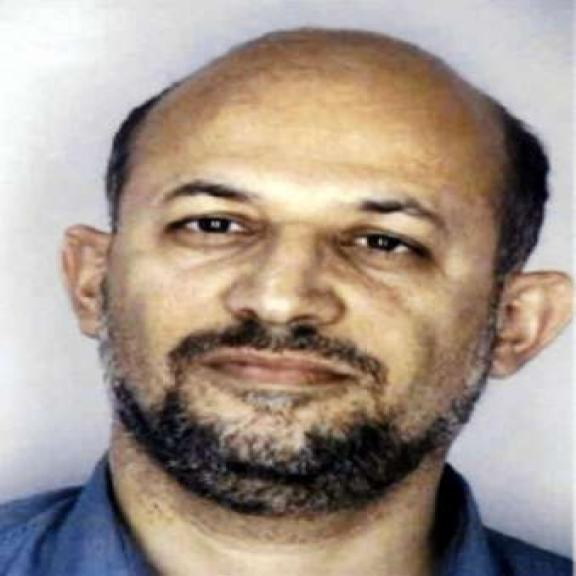face: (53, 106, 576, 511)
